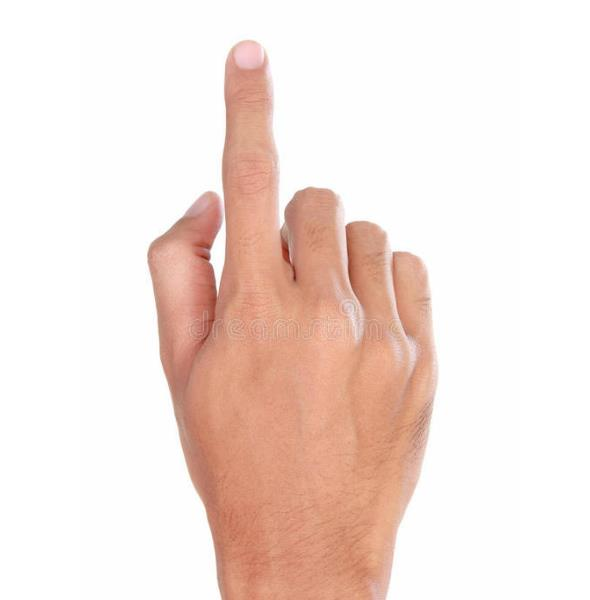up: (143, 35, 441, 543)
